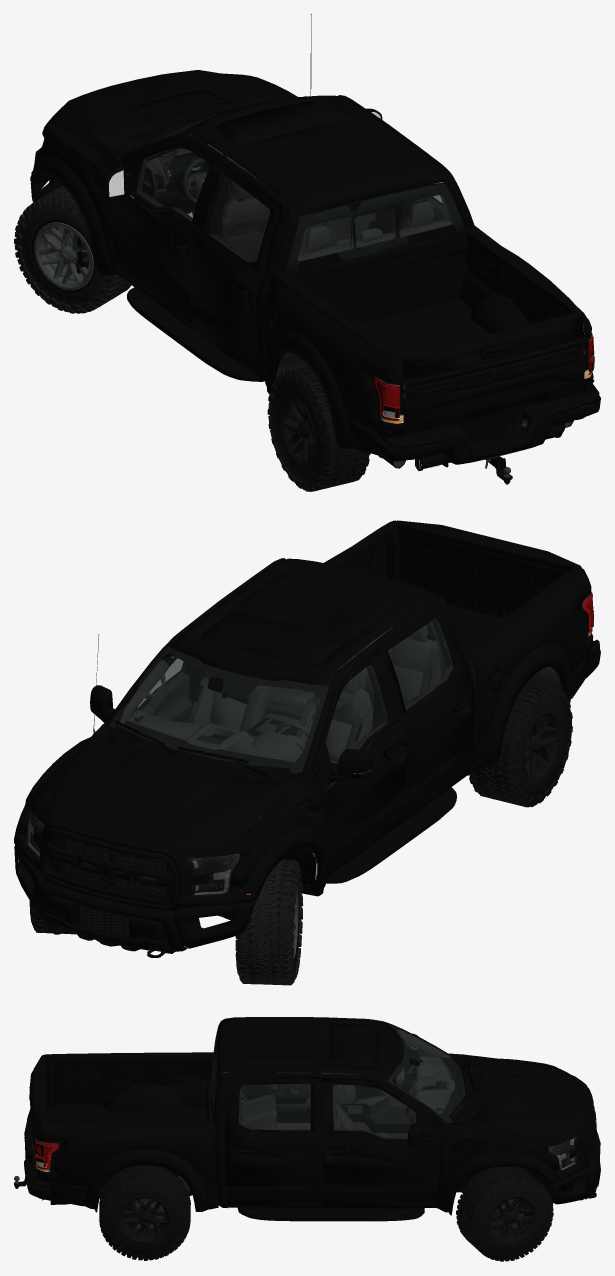
The model's file is ford-f150-raptor-mobile.glb.
3 views of the same model, one above another, from view 1: azimuth 30°, elevation 25°; view 2: azimuth 150°, elevation 25°; view 3: azimuth 270°, elevation 25° (orthographic). The views are drawn at different scales.
Parts seen in each view (by area): view 1: bodyshell1_1_17_64, Object_56, Object_61, chassis_2_46_112, door_dside_r_31_60_137, windscreen_r_55_216_379, Object_42, door_pside_f_23_74_165, Object_39, Object_12, window_lr_32_205_361, misc_skirt_18_137_256 (+4 smaller); view 2: bodyshell1_1_17_64, Object_61, windscreen_56_213_374, chassis_2_46_112, door_pside_f_23_74_165, Object_54, door_dside_r_31_60_137, bumper_f_20_28_78, Object_39, Object_42, window_lr_32_205_361, Object_12 (+4 smaller); view 3: bodyshell1_1_17_64, door_pside_f_23_74_165, door_pside_r_26_84_184, Object_61, chassis_2_46_112, [wheel_59_2_37, Object_47, windscreen_56_213_374, window_rf_25_207_364, window_rr_27_209_367, misc_skirt_18_137_256, door_dside_r_31_60_137 (+7 smaller).
Part boxes in pixels (x1=…): bodyshell1_1_17_64: x1=30, y1=14, x2=600, y2=470; Object_56: x1=401, y1=319, x2=584, y2=436; Object_61: x1=44, y1=70, x2=291, y2=152; chassis_2_46_112: x1=66, y1=106, x2=573, y2=468; door_dside_r_31_60_137: x1=189, y1=164, x2=279, y2=376; windscreen_r_55_216_379: x1=286, y1=183, x2=465, y2=272; Object_42: x1=14, y1=185, x2=131, y2=313; door_pside_f_23_74_165: x1=104, y1=100, x2=383, y2=330; Object_39: x1=267, y1=366, x2=370, y2=491; Object_12: x1=138, y1=148, x2=209, y2=220; window_lr_32_205_361: x1=208, y1=175, x2=270, y2=262; misc_skirt_18_137_256: x1=127, y1=287, x2=264, y2=381; bodyshell1_1_17_64: x1=14, y1=520, x2=600, y2=912; Object_61: x1=28, y1=732, x2=293, y2=859; windscreen_56_213_374: x1=109, y1=646, x2=329, y2=773; chassis_2_46_112: x1=103, y1=616, x2=447, y2=848; door_pside_f_23_74_165: x1=90, y1=611, x2=406, y2=876; Object_54: x1=394, y1=520, x2=581, y2=618; door_dside_r_31_60_137: x1=378, y1=607, x2=474, y2=821; bumper_f_20_28_78: x1=14, y1=845, x2=255, y2=957; Object_39: x1=469, y1=678, x2=572, y2=807; Object_42: x1=235, y1=859, x2=303, y2=985; window_lr_32_205_361: x1=388, y1=619, x2=452, y2=709; Object_12: x1=325, y1=665, x2=386, y2=763; bodyshell1_1_17_64: x1=24, y1=1017, x2=596, y2=1215; door_pside_f_23_74_165: x1=321, y1=1033, x2=440, y2=1208; door_pside_r_26_84_184: x1=225, y1=1078, x2=323, y2=1208; Object_61: x1=462, y1=1055, x2=591, y2=1143; chassis_2_46_112: x1=50, y1=1028, x2=547, y2=1204; [wheel_59_2_37: x1=99, y1=1165, x2=190, y2=1260; Object_47: x1=456, y1=1166, x2=553, y2=1261; windscreen_56_213_374: x1=387, y1=1024, x2=470, y2=1123; window_rf_25_207_364: x1=332, y1=1084, x2=416, y2=1138; window_rr_27_209_367: x1=237, y1=1083, x2=310, y2=1130; misc_skirt_18_137_256: x1=237, y1=1207, x2=424, y2=1221; door_dside_r_31_60_137: x1=241, y1=1072, x2=314, y2=1118.
Size of what is drawn, in the model's own units: 2.55 by 2.25 by 6.11.
40 materials, 23 textured.
